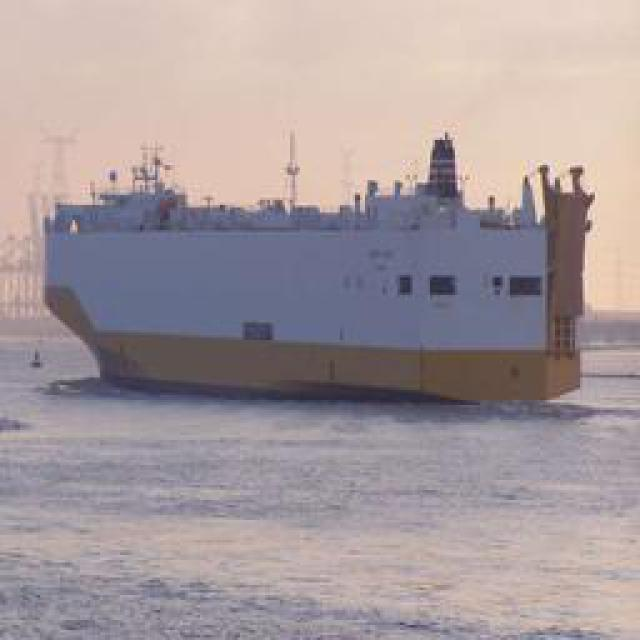Ship: (35, 130, 601, 414)
